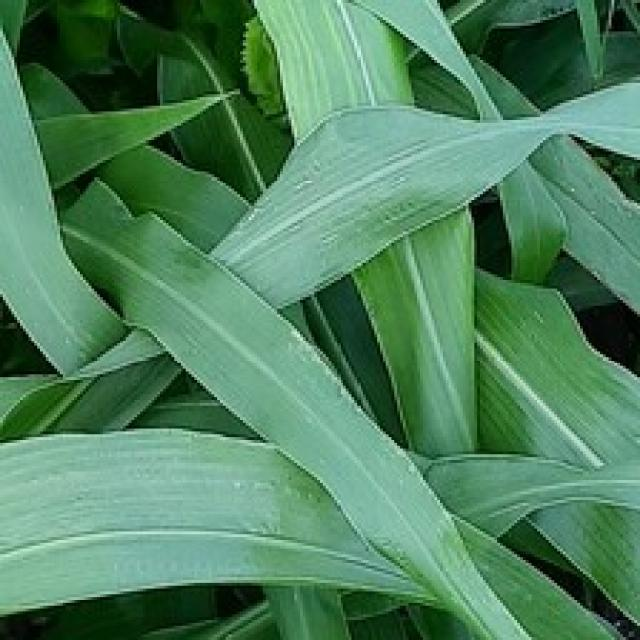Corn: (0, 0, 637, 637), (212, 0, 637, 326), (0, 0, 126, 377)
